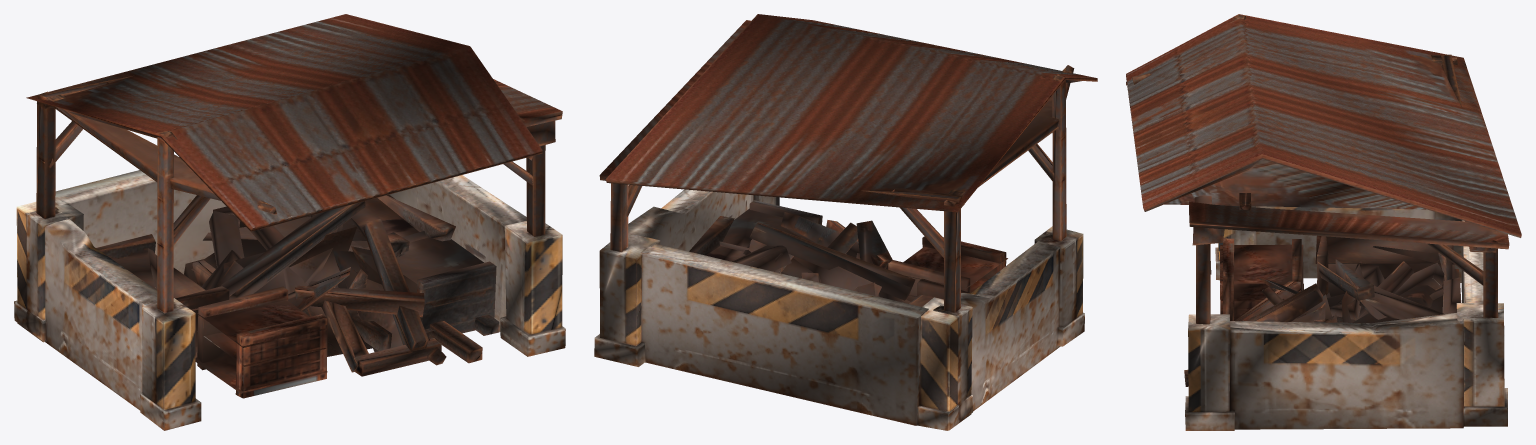
The model's file is Meshy_AI_Rusty_Scrap_Yard_Shel_0910090148_texture.fbx.
The picture shows the model from 3 angles, left to right: view 1: azimuth 30°, elevation 25°; view 2: azimuth 150°, elevation 25°; view 3: azimuth 270°, elevation 25°; orthographic projection. The views are drawn at different scales.
Visible parts, largest first — view 1: Mesh_0; view 2: Mesh_0; view 3: Mesh_0.
Boxes of the visible parts, x1=… form: Mesh_0: x1=14, y1=14, x2=565, y2=430; Mesh_0: x1=594, y1=14, x2=1097, y2=430; Mesh_0: x1=1126, y1=14, x2=1521, y2=430.
Bounding box in the file's own units: 100 × 71.48 × 99.8.
1 material, 1 textured.
